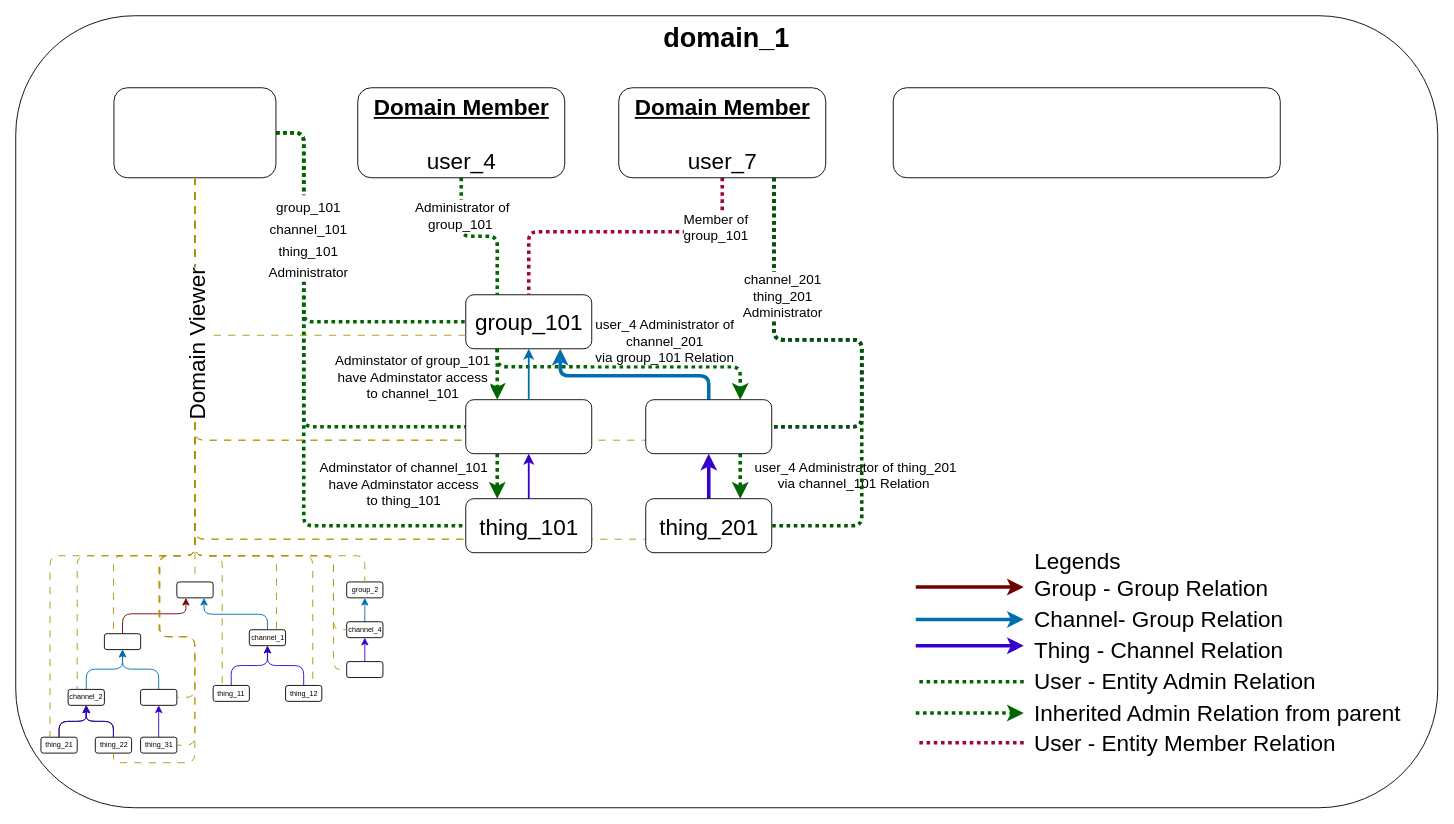
The diagram is 1454 pixels wide and 824 high, and some of its shapes have lost their labels. The box of each missing label's shape, as (x1, y1, x2, y2) in pixels:
channel_101: (465, 399, 592, 454)
channel_201: (645, 399, 772, 454)
channel_3: (140, 688, 177, 705)
Domain Member user_5, user_6, user_8, user_9: (892, 87, 1280, 178)
Domain Viewer user_3: (113, 87, 276, 178)
group_1: (176, 581, 213, 598)
group_12: (104, 633, 141, 650)
thing_41: (346, 661, 383, 678)
